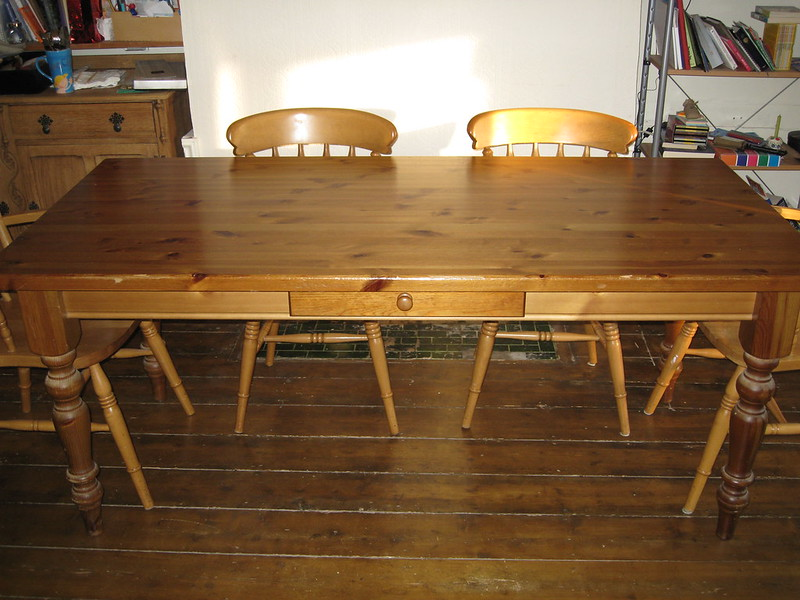dining table: (13, 143, 798, 542)
